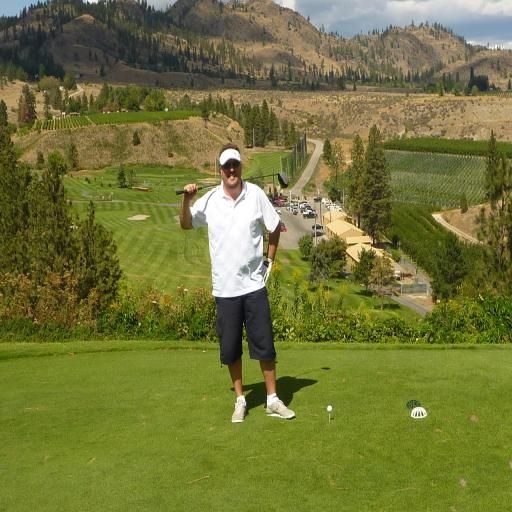Person: (134, 133, 338, 418)
boots: (257, 350, 301, 389), (230, 347, 254, 394)
goggles: (207, 186, 251, 197)
no_gloves: (174, 192, 201, 214)
none: (186, 189, 280, 295)
